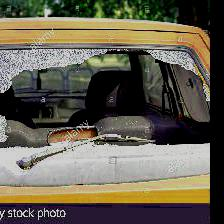glass_shatter: (0, 37, 205, 170)
